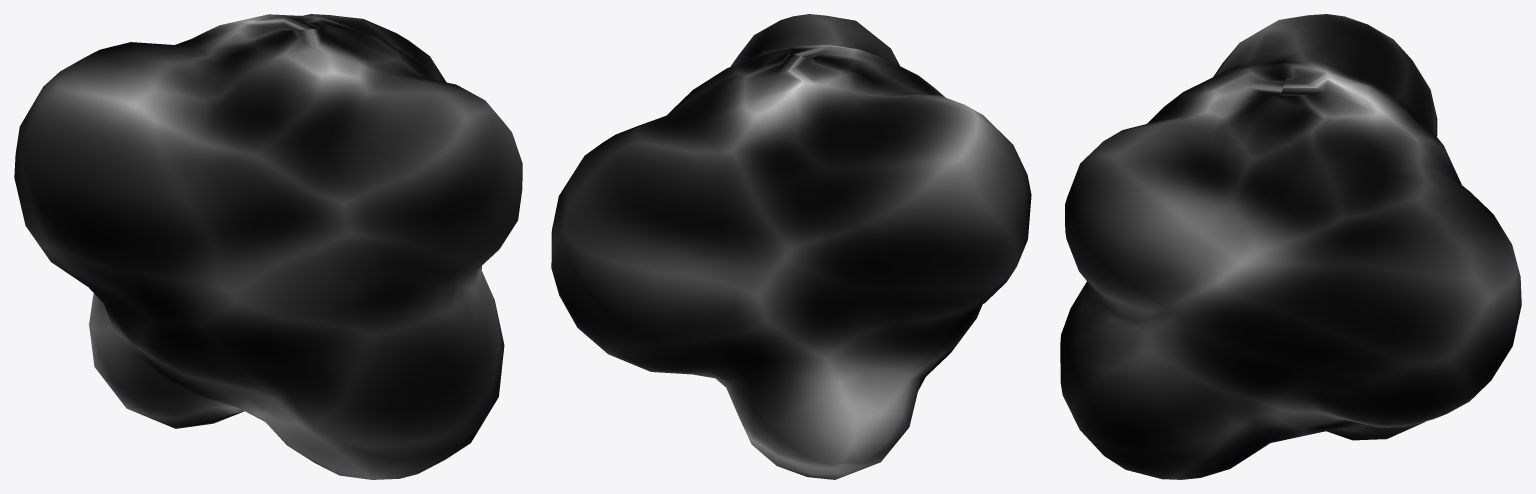
File: explosionmodel.fbx
The picture shows the model from 3 angles, left to right: view 1: azimuth 30°, elevation 25°; view 2: azimuth 150°, elevation 25°; view 3: azimuth 270°, elevation 25°; orthographic projection. The views are drawn at different scales.
Parts seen in each view (by area): view 1: explosion; view 2: explosion; view 3: explosion.
Part boxes in pixels (x1,y1,x2,y2): explosion: (14, 14, 522, 479); explosion: (551, 14, 1031, 479); explosion: (1060, 14, 1521, 479).
Bounding box in the file's own units: 33.68 × 28.64 × 31.66.
